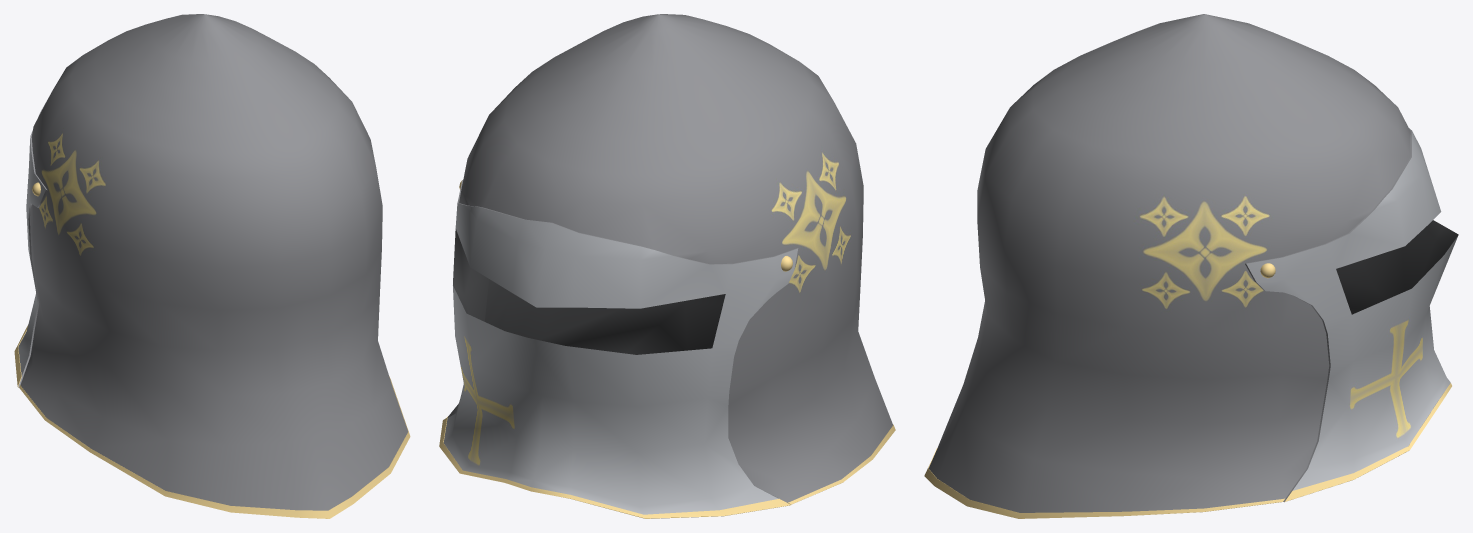
The model's file is sallet.glb.
The picture shows the model from 3 angles, left to right: view 1: azimuth 30°, elevation 25°; view 2: azimuth 150°, elevation 25°; view 3: azimuth 270°, elevation 25°; orthographic projection. The views are drawn at different scales.
Parts seen in each view (by area): view 1: Cylinder003 (×4); view 2: Cylinder003 (×4); view 3: Cylinder003 (×5).
Part boxes in pixels (x1,y1,x2,y2): Cylinder003 (×4): (14,14,410,518); Cylinder003 (×4): (439,14,895,518); Cylinder003 (×5): (924,14,1458,518).
Bounding box in the file's own units: 1.55 × 1.91 × 2.
6 materials, 6 textured.
